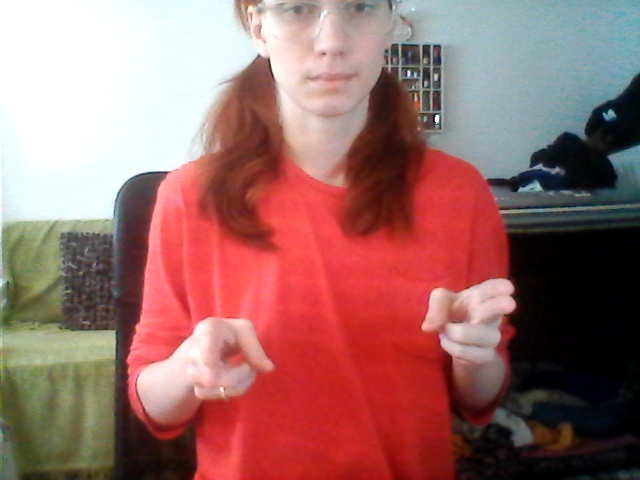ako: (183, 271, 525, 425)
